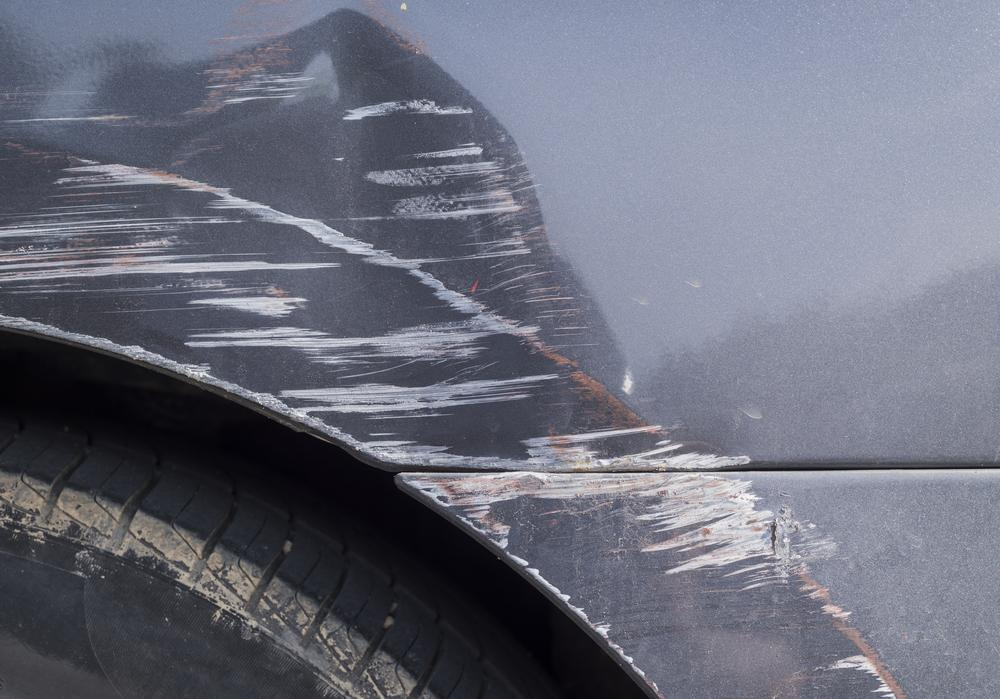dent: (177, 22, 512, 357)
scratch: (0, 40, 757, 470), (396, 464, 910, 699)
